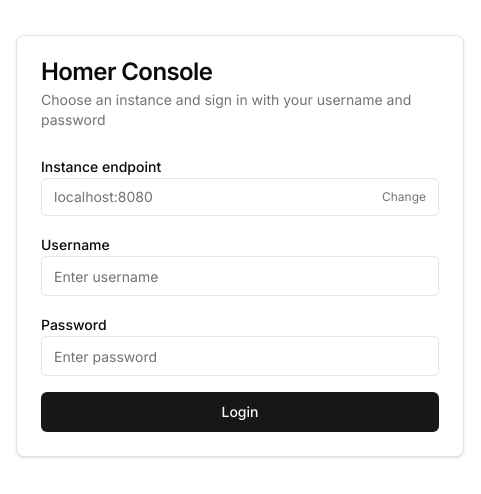
Test case: LoginPage › shows an error and does not log in on an invalid endpoint
Click the button with aria-label "change instance endpoint" at (103, 196), box top-left (41, 178), bottom-right (439, 216)
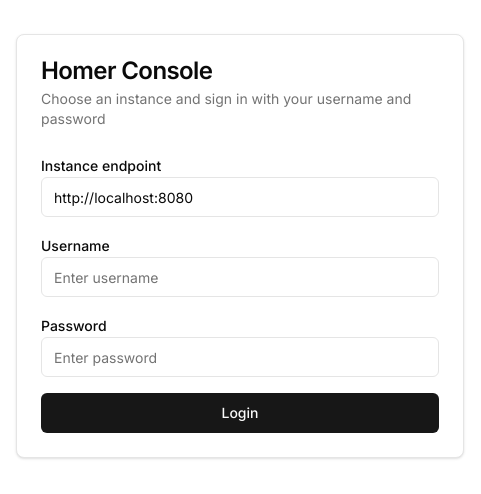
Replace the text in the field labelled "Instance endpoint" with "not a url" at (240, 197), box top-left (41, 177), bottom-right (439, 217)
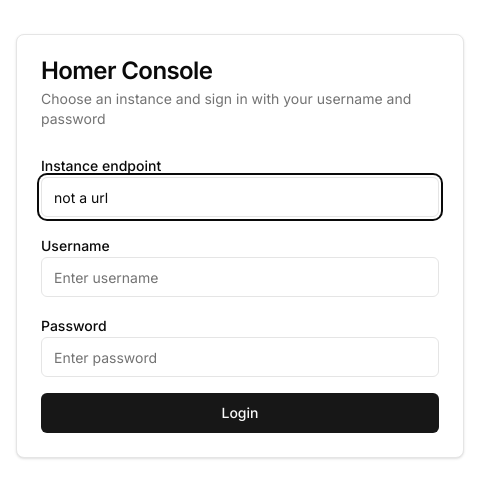
Type "alice" into the field labelled "Username" at (240, 277), box top-left (41, 257), bottom-right (439, 297)
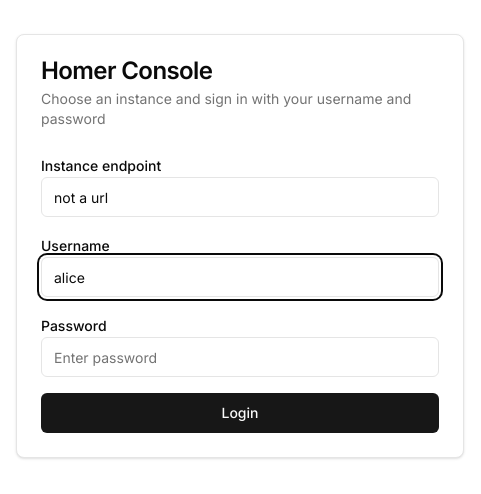
Type "pw" into the password field labelled "Password" at (240, 357), box top-left (41, 337), bottom-right (439, 377)
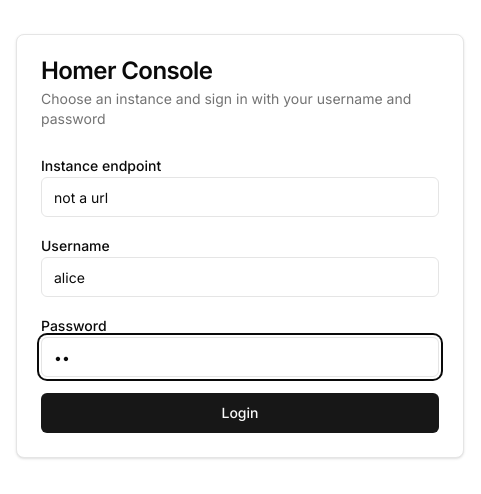
Click the button "Login" at (240, 413), box top-left (41, 393), bottom-right (439, 433)
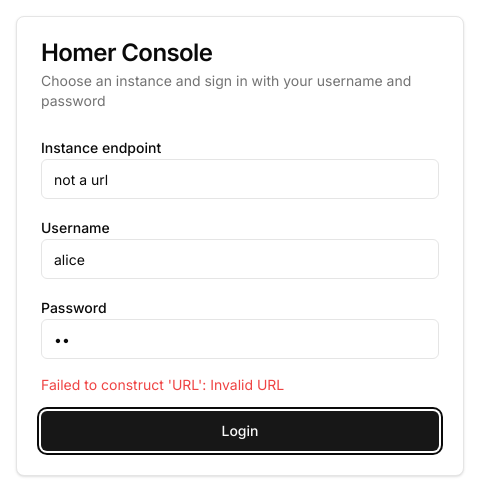
Expected: the text "Failed to construct 'URL': Invalid URL" is shown, top-left (41, 376), bottom-right (284, 393)
